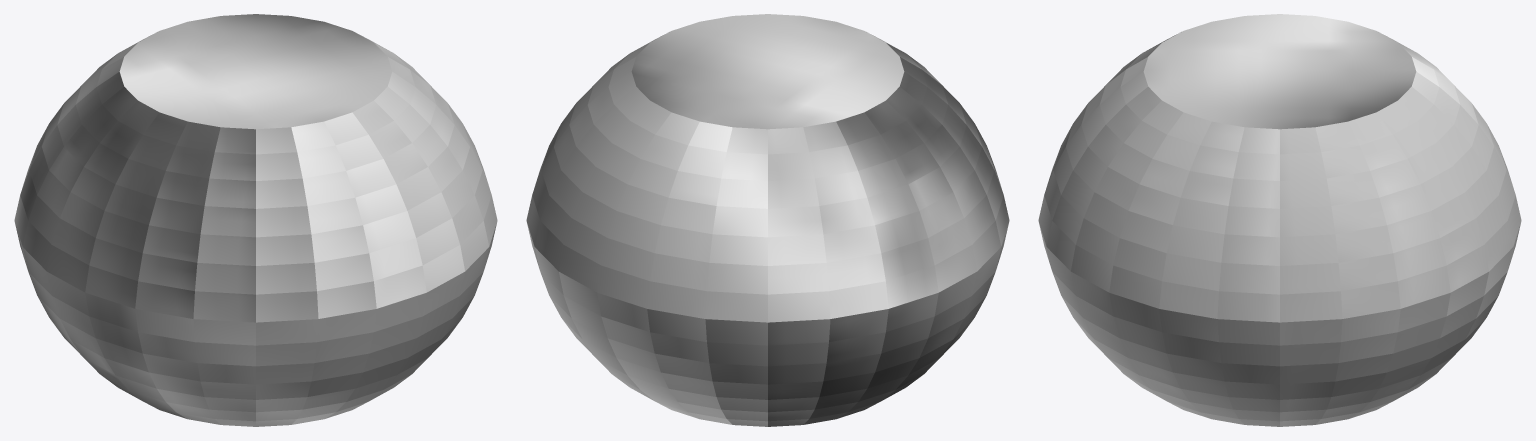
File: Pinball.FBX
3 renders of one model, left to right at view 1: azimuth 30°, elevation 25°; view 2: azimuth 150°, elevation 25°; view 3: azimuth 270°, elevation 25°, orthographic.
Parts seen in each view (by area): view 1: Group_002, Group_001; view 2: Group_002, Group_001; view 3: Group_002, Group_001.
Part boxes in pixels (x1=…): Group_002: x1=14, y1=14, x2=497, y2=322; Group_001: x1=15, y1=223, x2=496, y2=426; Group_002: x1=526, y1=14, x2=1009, y2=322; Group_001: x1=527, y1=223, x2=1008, y2=426; Group_002: x1=1038, y1=14, x2=1521, y2=322; Group_001: x1=1039, y1=223, x2=1520, y2=426.
Size of the model in its own units: 88.9 by 60.45 by 88.9.
Materials: 1 (1 with a texture image).
